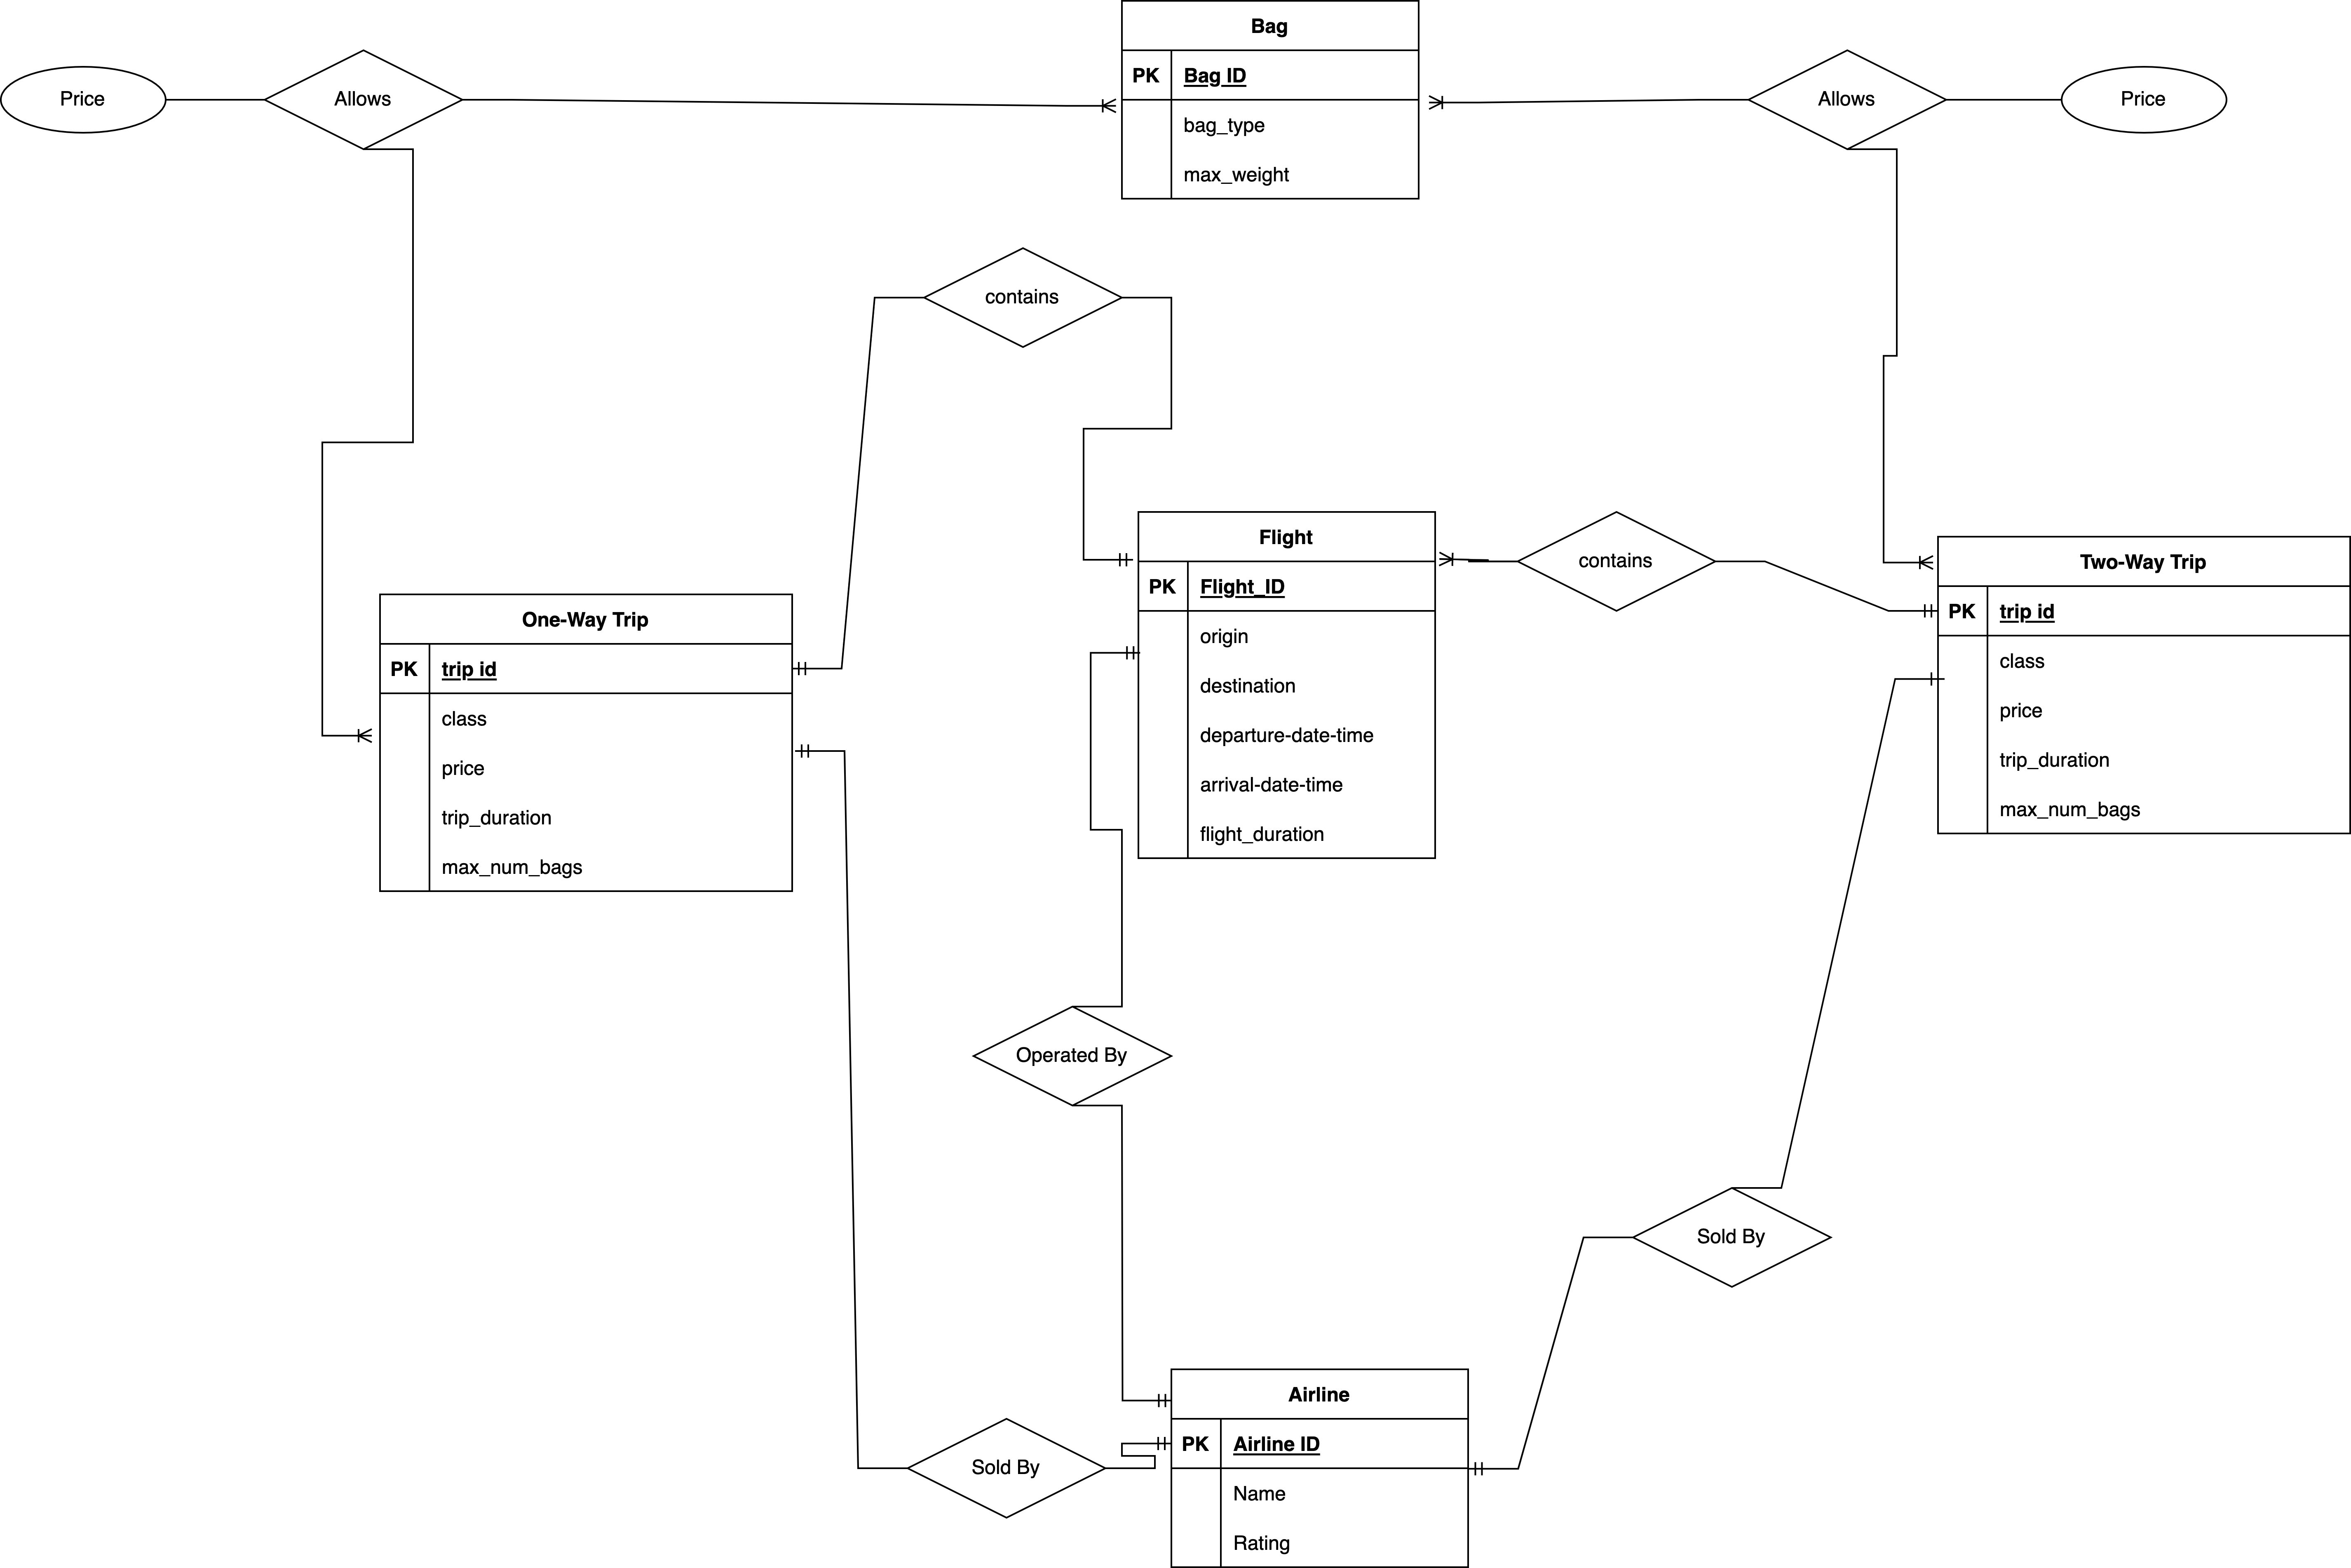entity: (380, 591, 798, 894), (1935, 534, 2351, 829), (1141, 513, 1436, 857), (1169, 1368, 1473, 1568), (1120, 2, 1422, 198)
many: (1419, 89, 1490, 114), (322, 726, 380, 749), (1434, 549, 1487, 570), (1884, 553, 1940, 572), (1072, 98, 1123, 119)
one: (1085, 551, 1141, 570), (792, 742, 845, 759), (1896, 670, 1940, 689), (1090, 644, 1137, 661), (1123, 1437, 1174, 1452), (1889, 604, 1935, 621), (794, 661, 843, 677), (1469, 1461, 1518, 1477), (1125, 1393, 1170, 1407)
rel: (1748, 49, 1943, 154), (266, 47, 462, 150), (911, 1419, 1109, 1519), (1522, 509, 1718, 609), (973, 1004, 1170, 1102), (1637, 1192, 1830, 1290), (929, 250, 1121, 346)
rel_attr: (3, 68, 164, 133), (2064, 68, 2223, 131)
